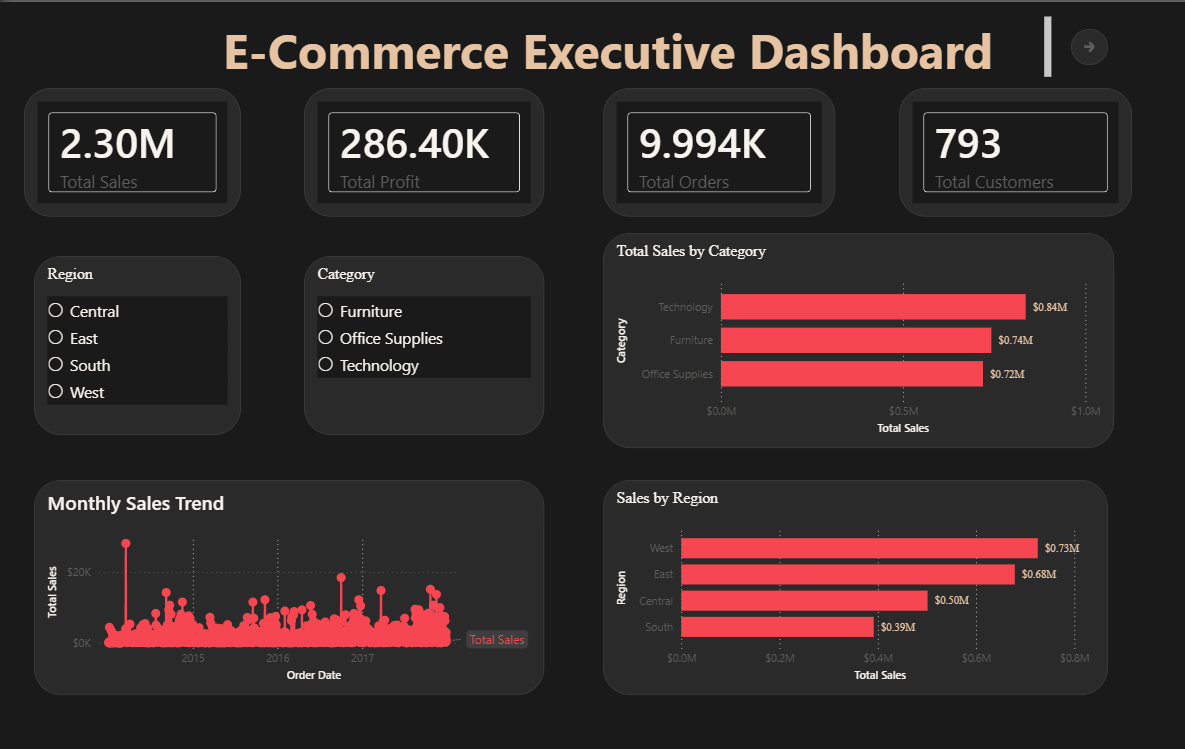

The page's visual inventory and layout, read from the dashboard file:
{"tool":"powerbi","page":{"name":"Page 1","canvas":[1374,886],"ordinal":0},"visuals":[{"type":"cardVisual","fields":{"Data":["superstore_cleaned.Total Sales"]},"box":[27,96,241,143],"z":0},{"type":"cardVisual","fields":{"Data":["superstore_cleaned.Total Orders"]},"box":[670,96,258,143],"z":1000},{"type":"cardVisual","fields":{"Data":["superstore_cleaned.Total Profit"]},"box":[338,96,267,143],"z":2000},{"type":"cardVisual","fields":{"Data":["superstore_cleaned.Total Customers"]},"box":[999,96,259,143],"z":3000},{"type":"lineChart","title":"Monthly Sales Trend","fields":{"Y":["superstore_cleaned.Total Sales"],"Category":["superstore_cleaned.Order Date.Variation.Date Hierarchy.Year"]},"box":[38,531,567,239],"z":4000},{"type":"clusteredBarChart","title":"Total Sales by Category","fields":{"Category":["superstore_cleaned.Category"],"Y":["superstore_cleaned.Total Sales"]},"box":[670,257,568,239],"z":5000},{"type":"clusteredBarChart","title":"Sales by Region","fields":{"Y":["superstore_cleaned.Total Sales"],"Category":["superstore_cleaned.Region"]},"box":[670,531,561,239],"z":6000},{"type":"listSlicer","fields":{"Values":["superstore_cleaned.Region"]},"box":[38,282,230,199],"z":7000},{"type":"textbox","box":[242,11,931,79],"z":8000},{"type":"listSlicer","fields":{"Values":["superstore_cleaned.Category"]},"box":[338,282,267,199],"z":8001},{"type":"actionButton","box":[1190,30,41.2,40],"z":8002}]}

Visuals, with their boxes in screenshot pixels (x1, y1, x2, y2), scaled from the page's 1374x886 canvas onto the 1185x749 screenshot:
cardVisual - superstore_cleaned.Total Sales: [x1=23, y1=81, x2=231, y2=202]
cardVisual - superstore_cleaned.Total Orders: [x1=578, y1=81, x2=800, y2=202]
cardVisual - superstore_cleaned.Total Profit: [x1=292, y1=81, x2=522, y2=202]
cardVisual - superstore_cleaned.Total Customers: [x1=862, y1=81, x2=1085, y2=202]
"Monthly Sales Trend" lineChart: [x1=33, y1=449, x2=522, y2=651]
"Total Sales by Category" clusteredBarChart: [x1=578, y1=217, x2=1068, y2=419]
"Sales by Region" clusteredBarChart: [x1=578, y1=449, x2=1062, y2=651]
listSlicer - superstore_cleaned.Region: [x1=33, y1=238, x2=231, y2=407]
textbox: [x1=209, y1=9, x2=1012, y2=76]
listSlicer - superstore_cleaned.Category: [x1=292, y1=238, x2=522, y2=407]
actionButton: [x1=1026, y1=25, x2=1062, y2=59]
